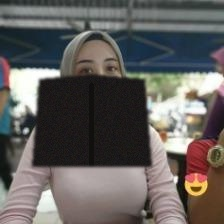Cadar_Niqab: (32, 28, 151, 166)
